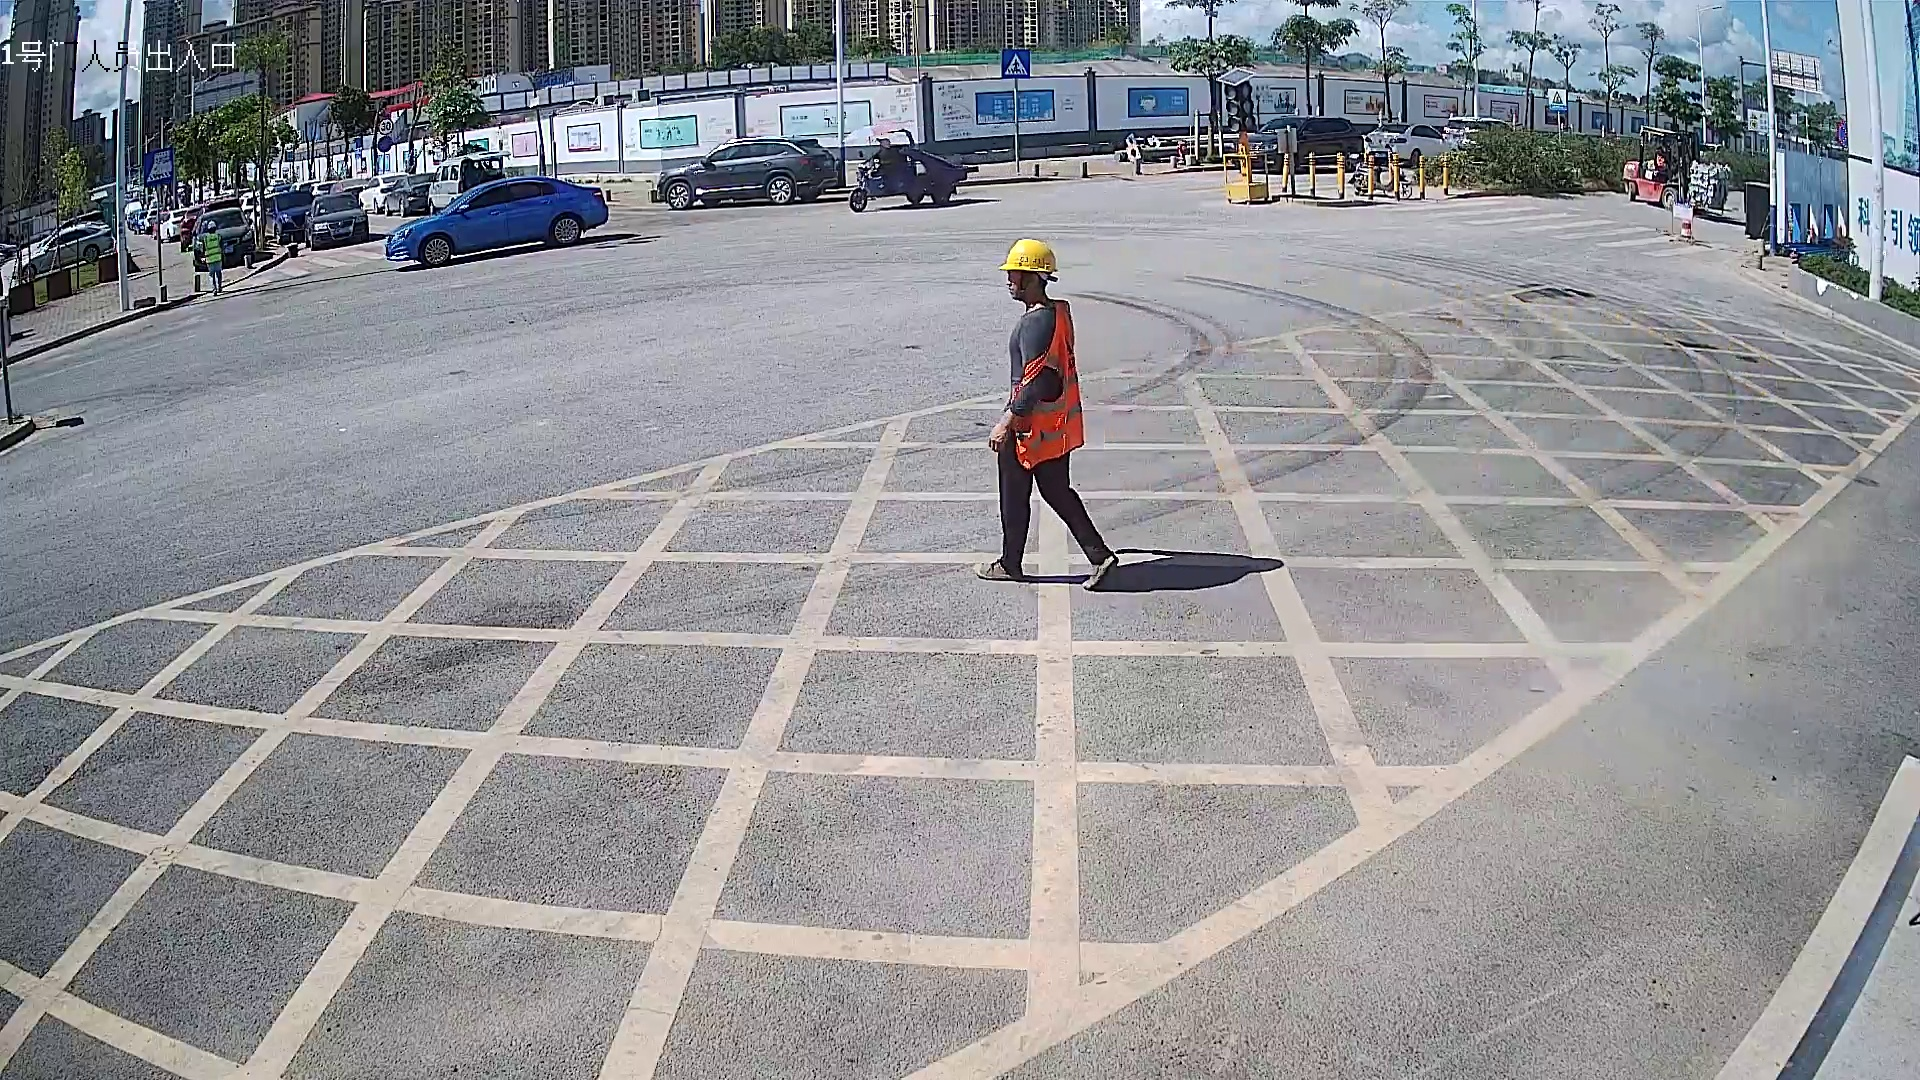ordinary_clothes: (1007, 296, 1087, 476)
person: (969, 231, 1126, 594)
safety_helmet: (997, 234, 1059, 303)
